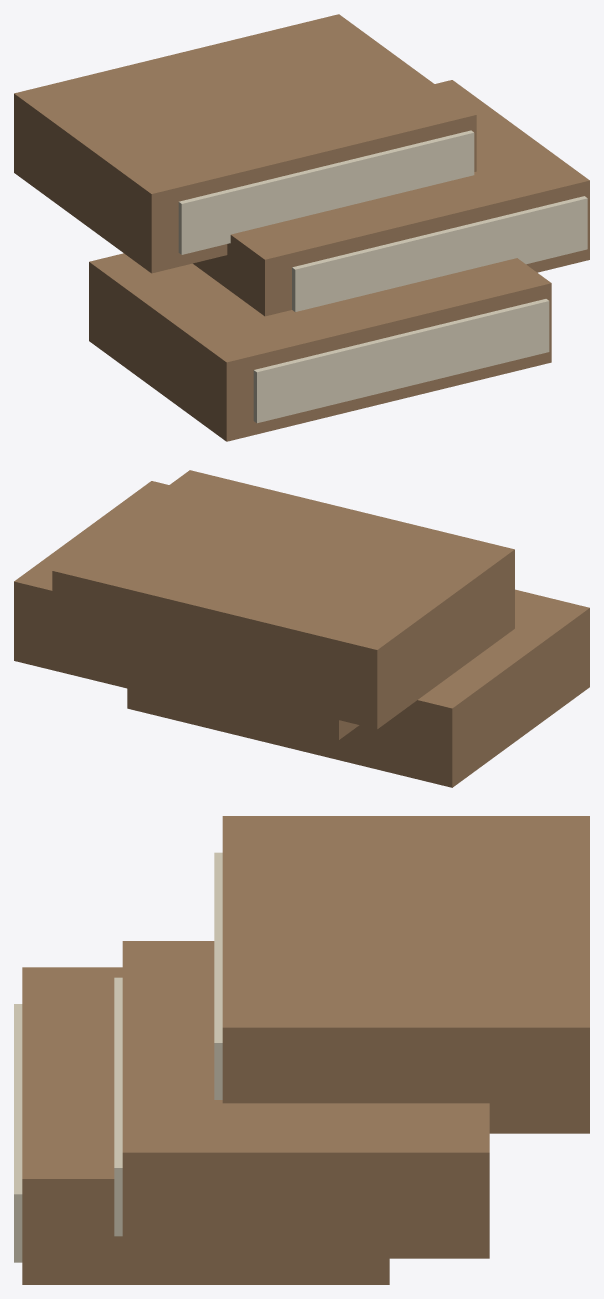
The model's file is item_117_book_m.glb.
The picture shows the model from 3 angles, top to bottom: view 1: azimuth 30°, elevation 25°; view 2: azimuth 150°, elevation 25°; view 3: azimuth 270°, elevation 25°; orthographic projection. The views are drawn at different scales.
Parts seen in each view (by area): view 1: item_117_book_m; view 2: item_117_book_m; view 3: item_117_book_m.
Part boxes in pixels (<box>): item_117_book_m: <box>14,14,589,441</box>; item_117_book_m: <box>14,470,589,787</box>; item_117_book_m: <box>14,816,589,1284</box>.
Size of the model in its own units: 0.37 by 0.17 by 0.345.
